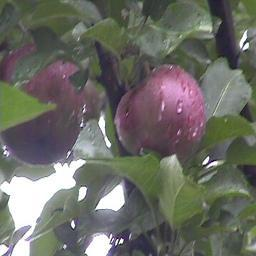apple: (1, 40, 84, 163), (115, 62, 205, 157)
